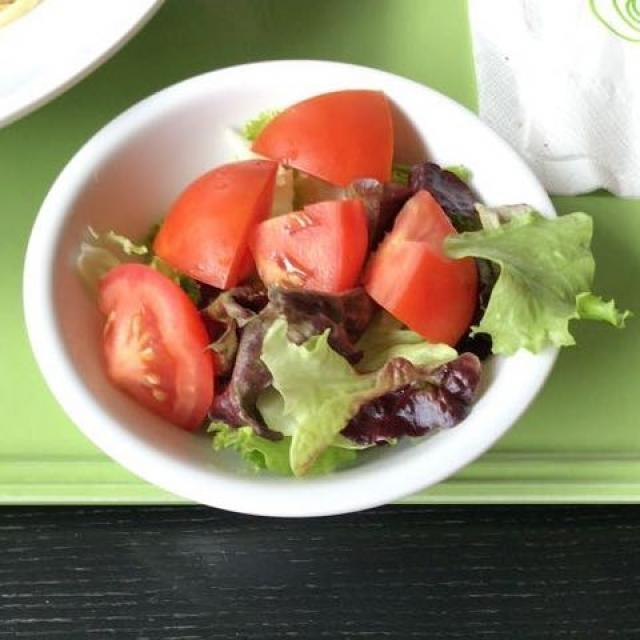salad: (81, 150, 609, 461)
tomato: (78, 106, 511, 427)
